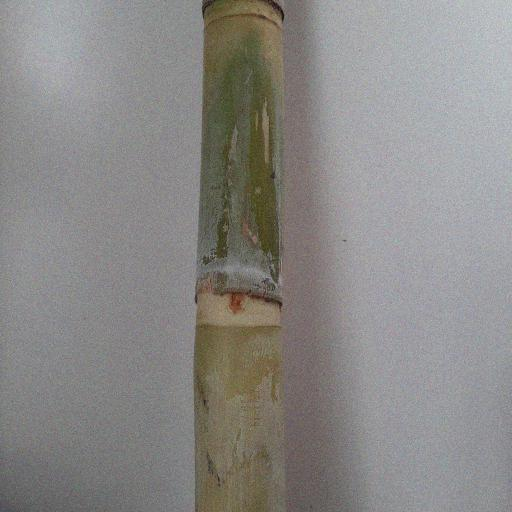Damage_Bud: (226, 293, 246, 316)
